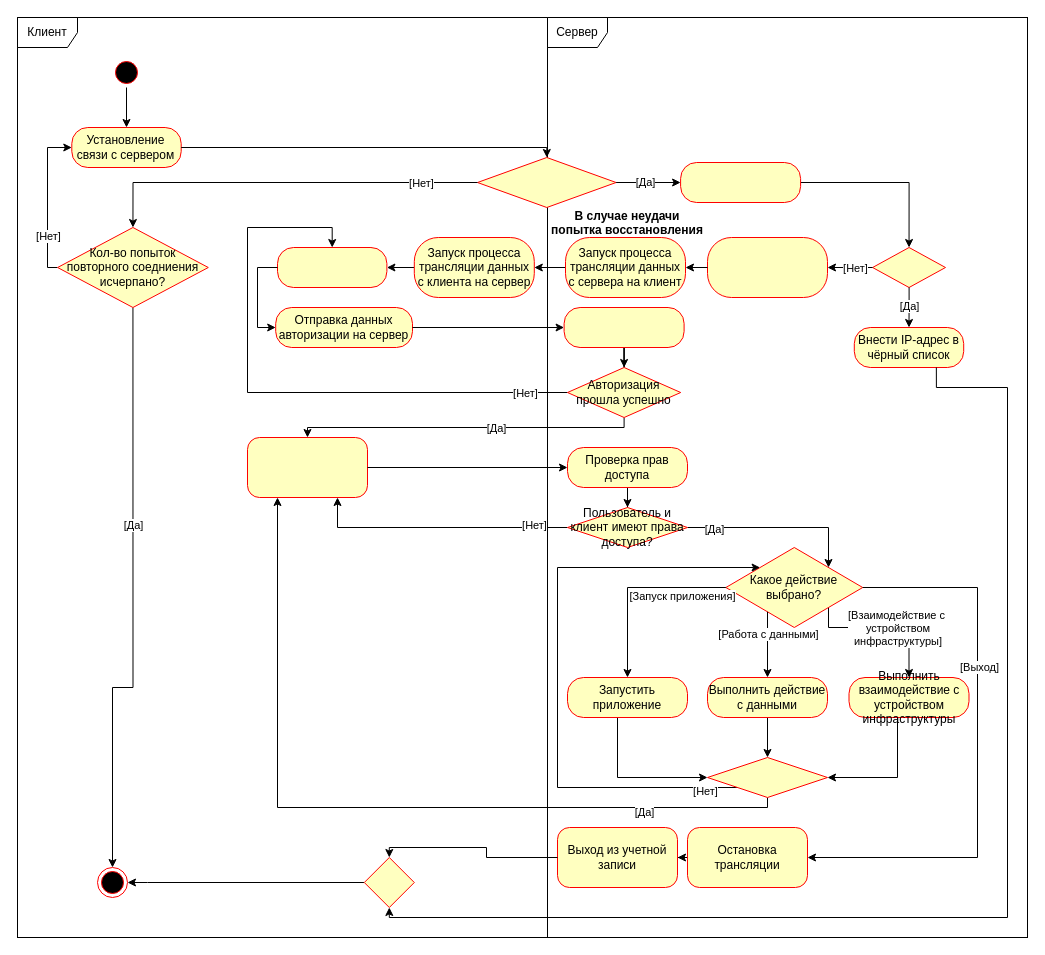
Image size: 1045x955. Some labels were removed from this diagram. The shapes that lost their labels are listed below. From the top down, each one's centre as x and y in pixels, then its label:
At (546,182): "Связь установлена?".
At (740,182): "Проверка на спам".
At (331,267): "Ввод данных авторизации".
At (767,267): "Инициализация сессии пользователя".
At (909,267): "Это спам?".
At (623,327): "Проверка данных авторизации".
At (307,467): "Выбор доступного действия".
At (767,777): "Все пакеты обработаны?".
